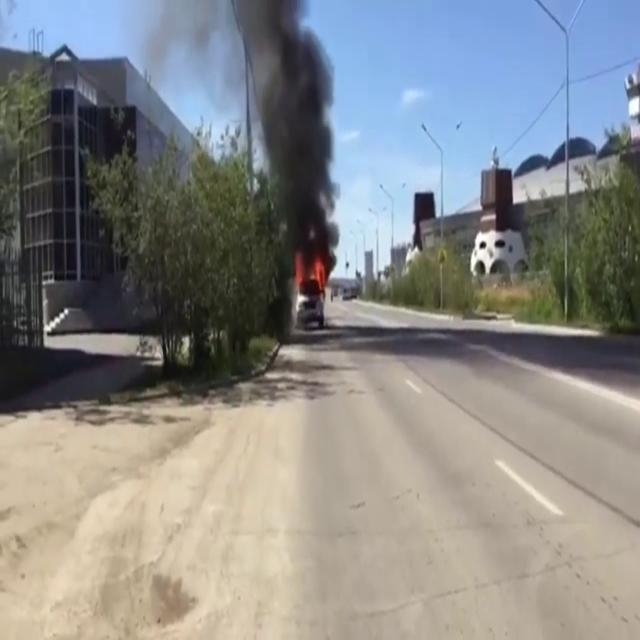Fire: (292, 248, 331, 304)
Smoke: (234, 0, 340, 257)
